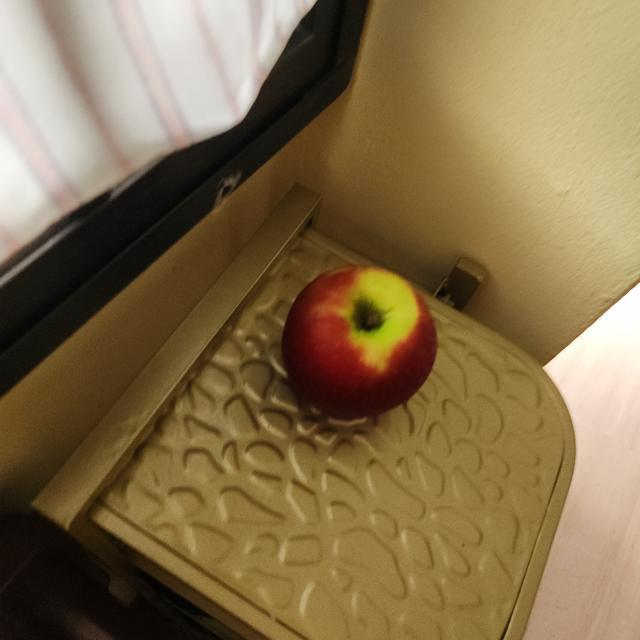apple: (268, 254, 443, 428)
